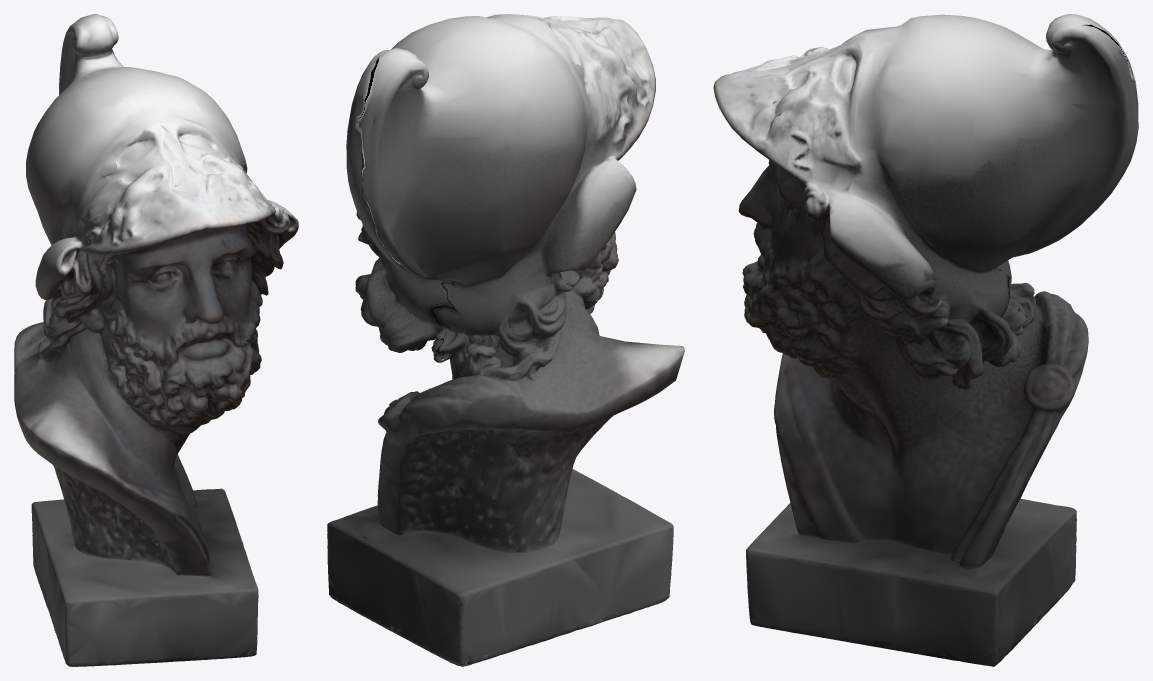
Rendered from greek_bust.glb.
3 views of the same model, side by side, from view 1: azimuth 30°, elevation 25°; view 2: azimuth 150°, elevation 25°; view 3: azimuth 270°, elevation 25° (orthographic). The views are drawn at different scales.
Size of the model in its own units: 0.3786 by 0.7543 by 0.484.
Materials: 1 (1 with a texture image).
